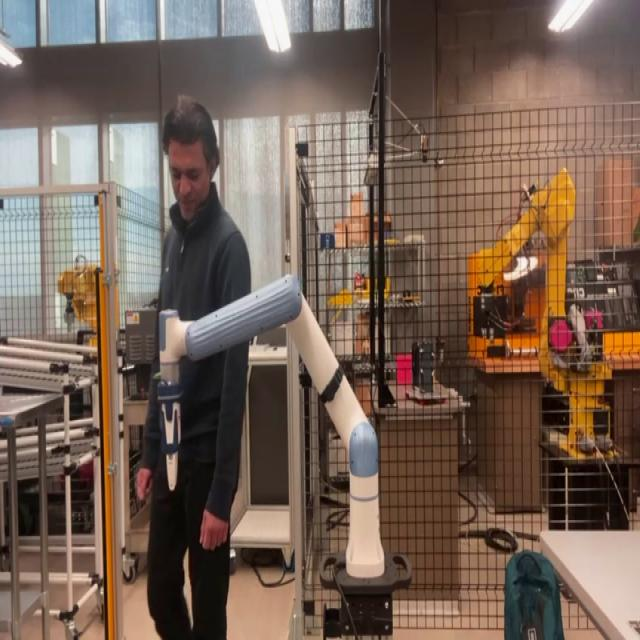robot: (148, 248, 392, 588)
